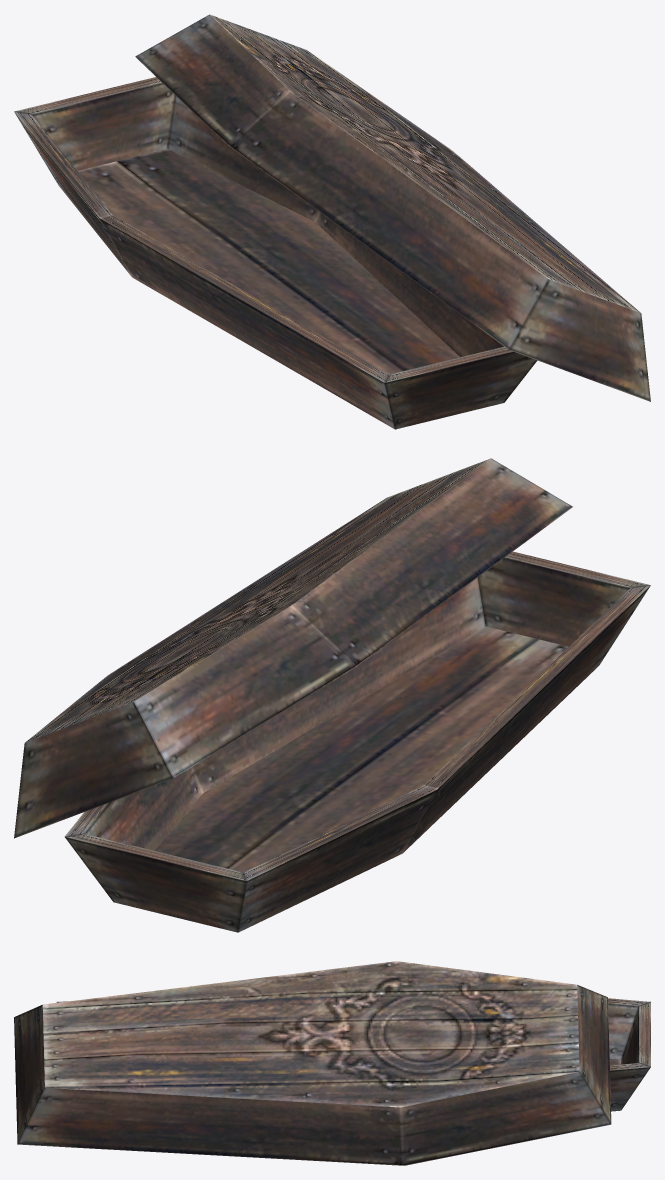
The model's file is d_grob3.glb.
3 views of the same model, one above another, from view 1: azimuth 30°, elevation 25°; view 2: azimuth 150°, elevation 25°; view 3: azimuth 270°, elevation 25° (orthographic). The views are drawn at different scales.
Visible parts, largest first — view 1: d_grob3-col; view 2: d_grob3-col; view 3: d_grob3-col.
Boxes of the visible parts, <box> form: d_grob3-col: <box>14,14,650,429</box>; d_grob3-col: <box>14,458,650,932</box>; d_grob3-col: <box>14,961,650,1165</box>.
Bounding box in the file's own units: 1.02 × 0.5265 × 2.14.
Materials: 1 (1 with a texture image).
